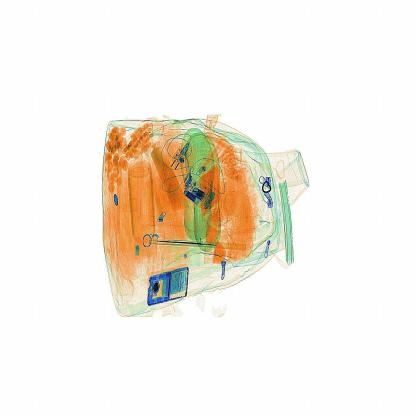wrench: (142, 233, 260, 264)
